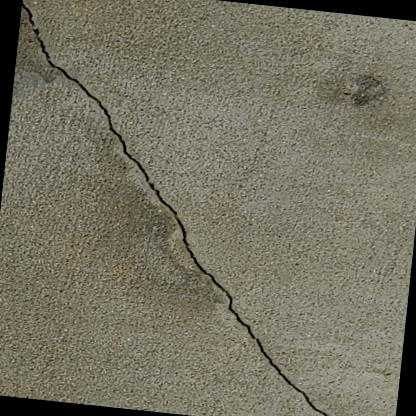crack: (20, 0, 329, 416)
